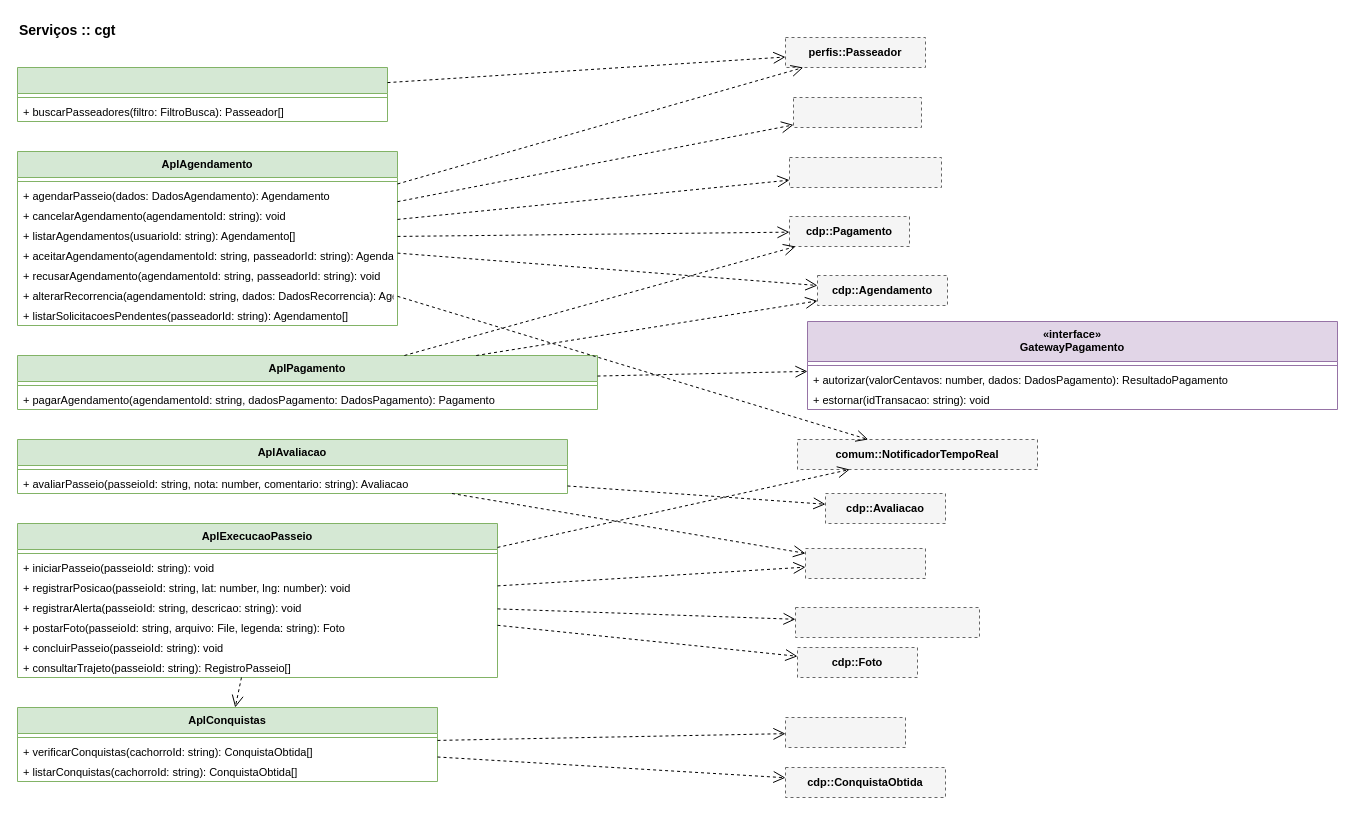
Some shapes in this 1355 by 815 pixel diagram are drawn without their labels. The box of each missing label's shape, as (x1, y1, x2, y2) in pixels:
AplBuscaPasseadores: (16, 66, 388, 122)
cdp::Conquista: (784, 716, 906, 748)
cdp::Passeio: (804, 548, 926, 578)
cdp::RegistroPasseio: (794, 606, 980, 638)
perfis::Cachorro: (788, 156, 942, 188)
perfis::Tutor: (792, 96, 922, 128)
